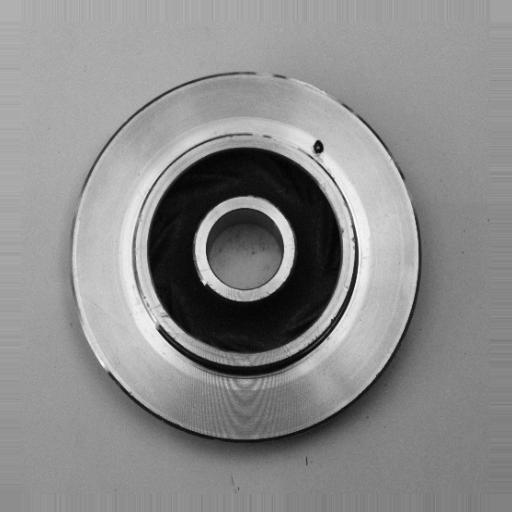pit: (307, 130, 332, 166)
scratch: (132, 265, 167, 338), (250, 121, 308, 158)
unpolished_casting: (68, 70, 425, 447)
